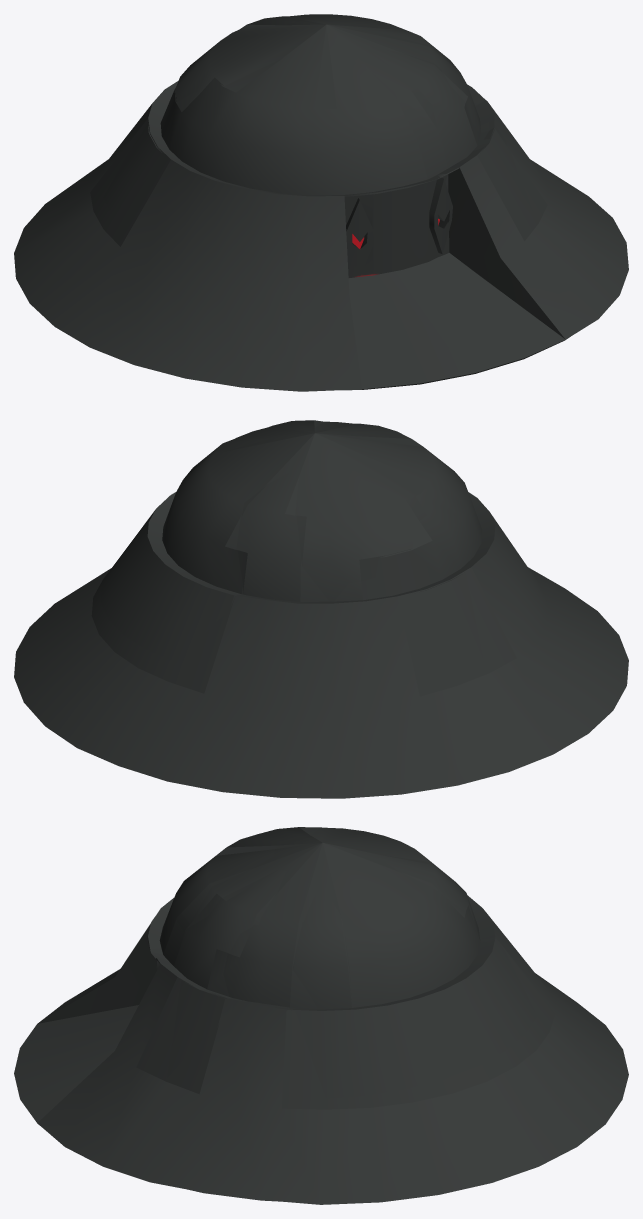
The model's file is bowlerhatwithaamachinegun (5).fbx.
3 renders of one model, top to bottom at view 1: azimuth 30°, elevation 25°; view 2: azimuth 150°, elevation 25°; view 3: azimuth 270°, elevation 25°, orthographic.
Parts seen in each view (by area): view 1: Circle; view 2: Circle; view 3: Circle.
Boxes of the visible parts, x1,y1,x2,y2 form: Circle: (14, 14, 628, 391); Circle: (14, 420, 628, 798); Circle: (14, 827, 628, 1204).
Size of the model in its own units: 316 by 133 by 316.
1 material, 1 textured.
